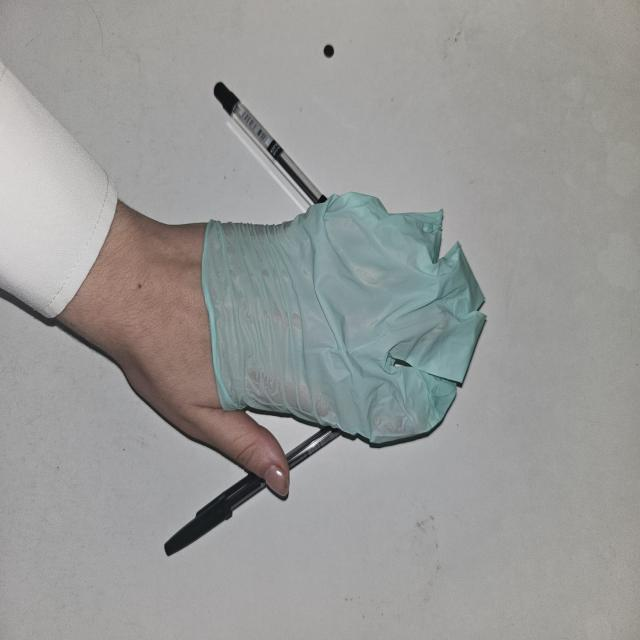glove_partial: (135, 189, 488, 500)
